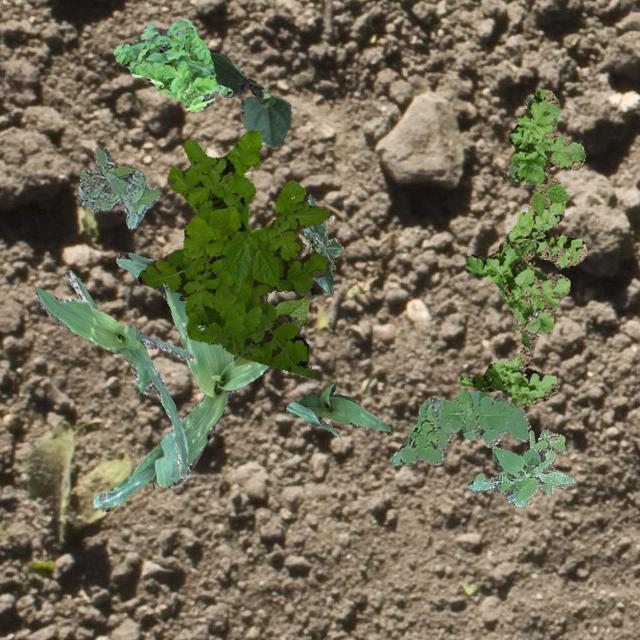crop: (93, 250, 270, 510), (34, 268, 192, 478), (208, 48, 290, 146), (284, 380, 389, 436), (232, 296, 308, 366), (302, 193, 342, 294)
weed: (136, 128, 330, 376), (456, 88, 586, 406), (112, 17, 232, 112), (388, 390, 530, 464), (466, 428, 574, 506), (75, 146, 158, 228), (528, 430, 564, 494)
